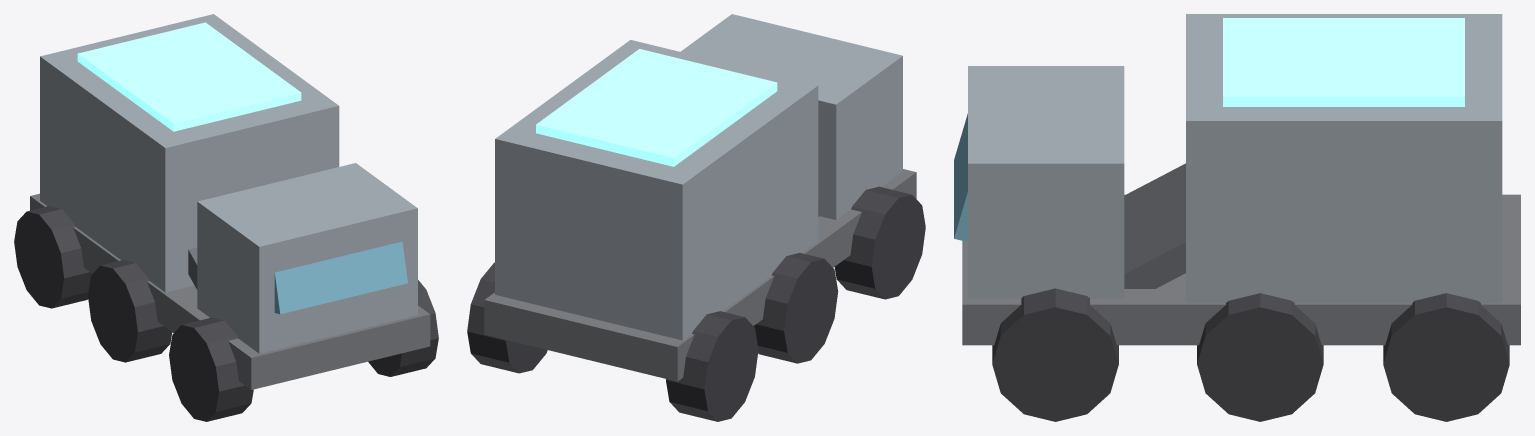
The model's file is Unit_Harvester.fbx.
The picture shows the model from 3 angles, left to right: view 1: azimuth 30°, elevation 25°; view 2: azimuth 150°, elevation 25°; view 3: azimuth 270°, elevation 25°; orthographic projection. The views are drawn at different scales.
Parts seen in each view (by area): view 1: Body.002; view 2: Body.002; view 3: Body.002.
Boxes of the visible parts, x1,y1,x2,y2 form: Body.002: [14, 14, 438, 421]; Body.002: [467, 14, 925, 421]; Body.002: [954, 14, 1520, 421].
Size of the model in its own units: 1.72 by 1.76 by 3.05.
